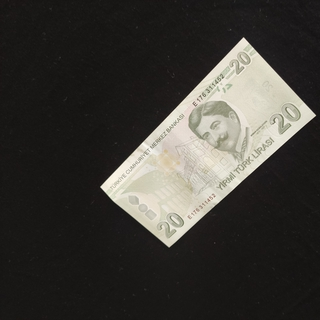20TLBack: (99, 35, 316, 248)
